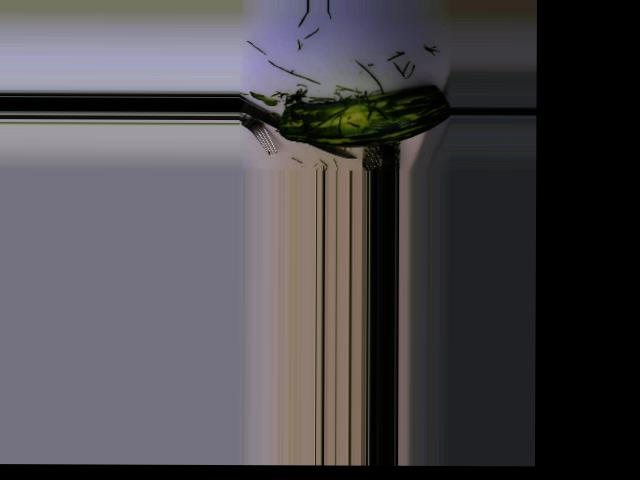cucumber: (278, 84, 450, 147)
